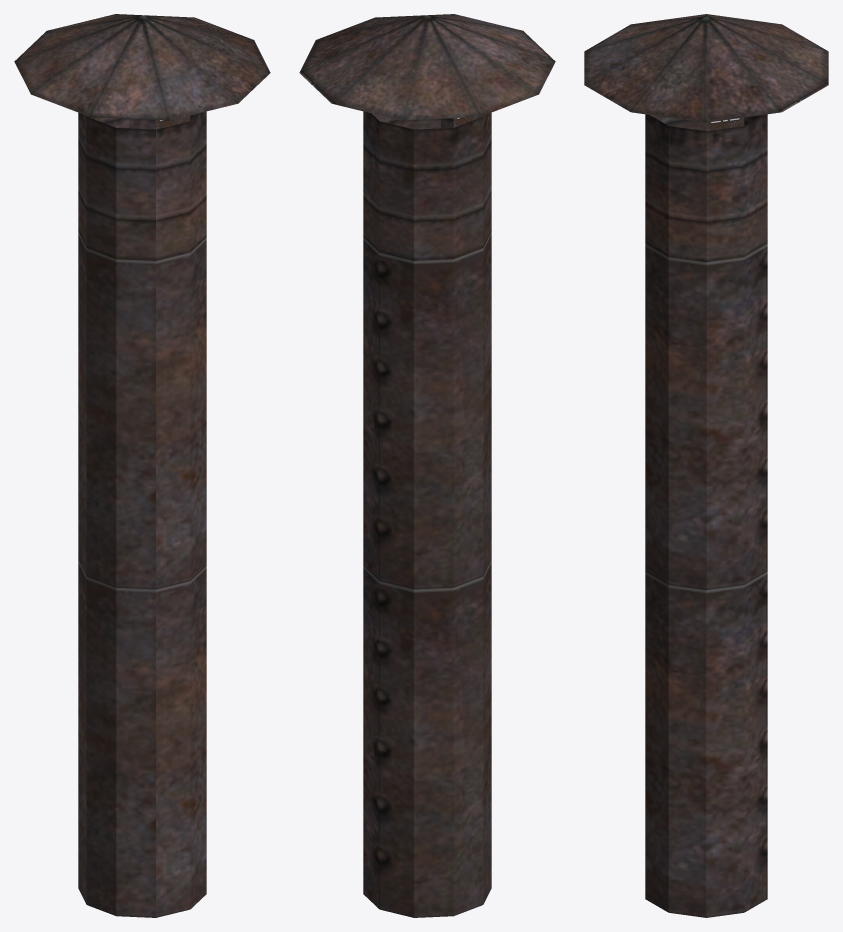
File: smallchimney.fbx
3 views of the same model, side by side, from view 1: azimuth 30°, elevation 25°; view 2: azimuth 150°, elevation 25°; view 3: azimuth 270°, elevation 25° (orthographic).
Parts seen in each view (by area): view 1: mesh_0; view 2: mesh_0; view 3: mesh_0.
Boxes of the visible parts, x1,y1,x2,y2 form: mesh_0: [14, 14, 270, 917]; mesh_0: [299, 14, 555, 917]; mesh_0: [584, 14, 828, 917].
Bounding box in the file's own units: 33.02 × 124 × 31.4.
Materials: 1 (1 with a texture image).
